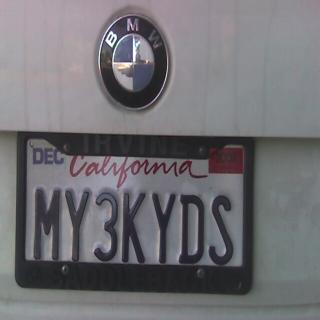license: (15, 132, 256, 294)
